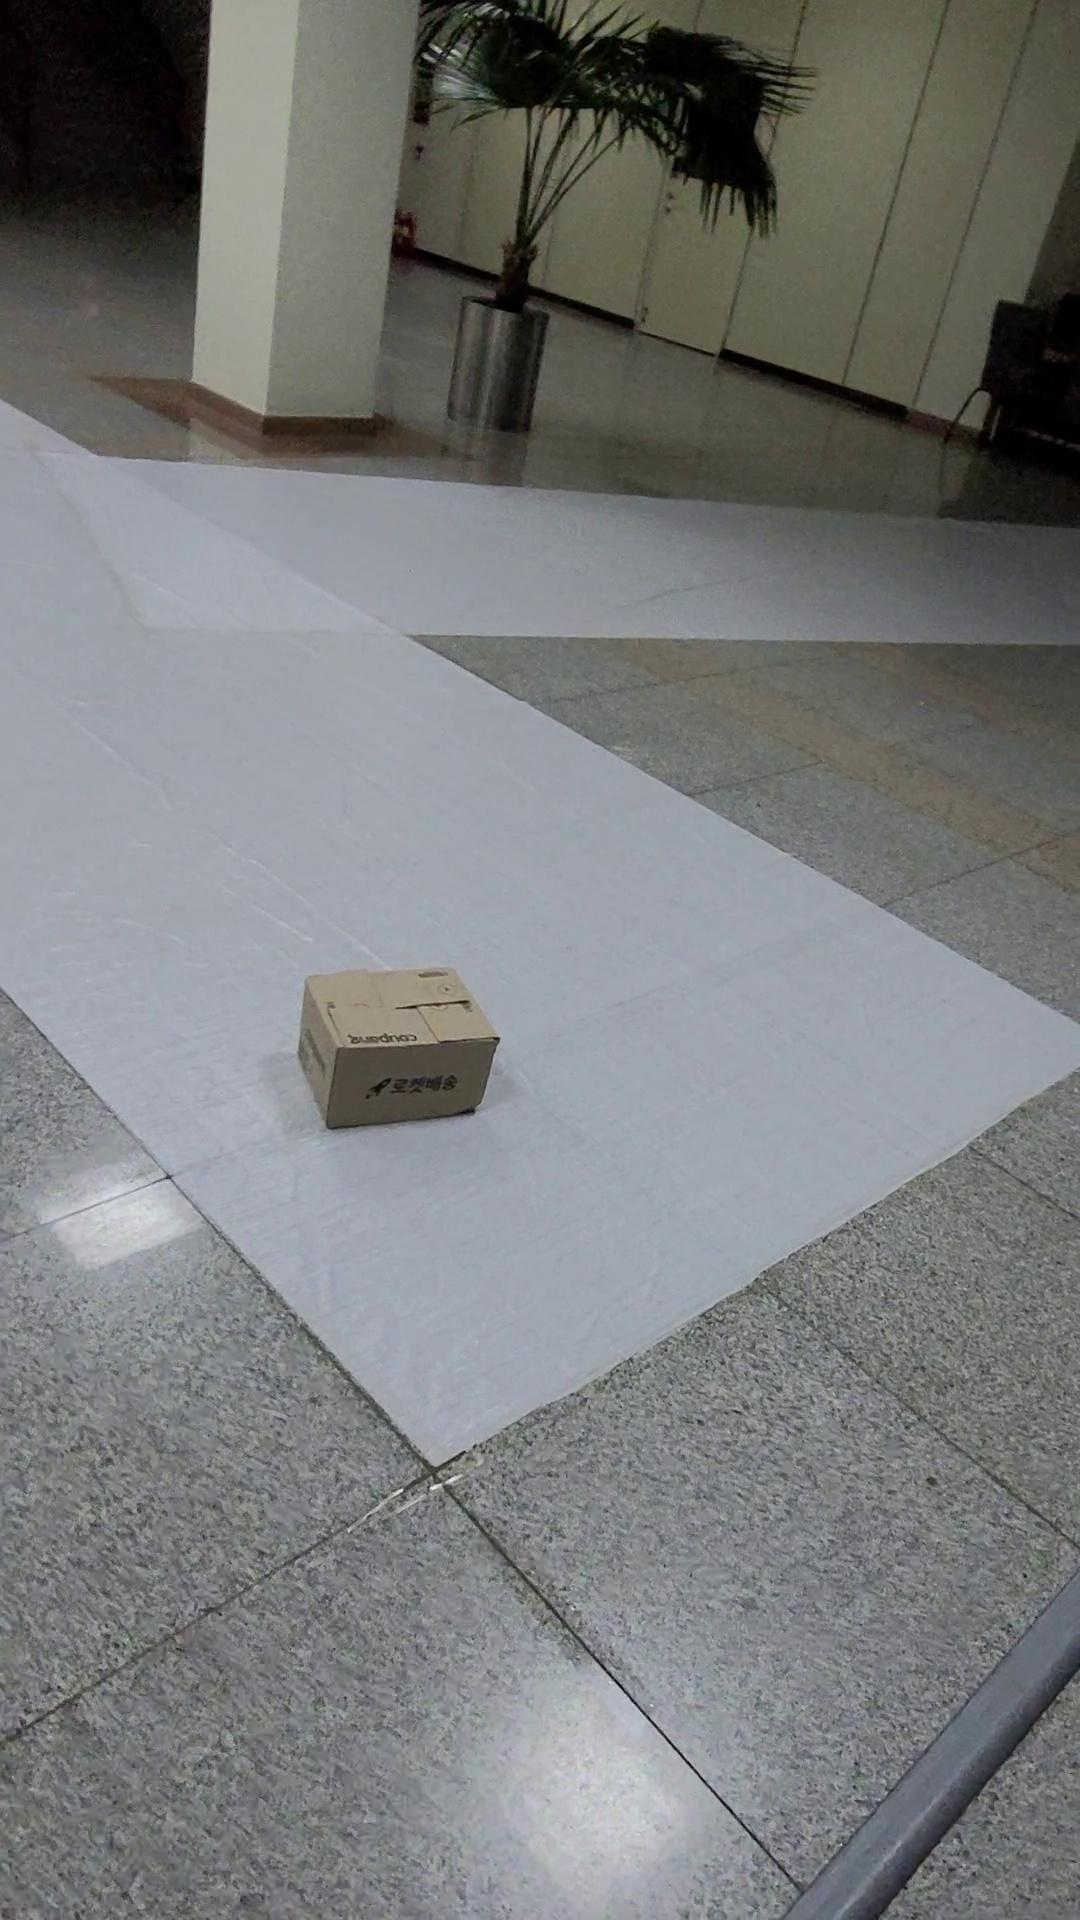Box: (258, 918, 525, 1149)
